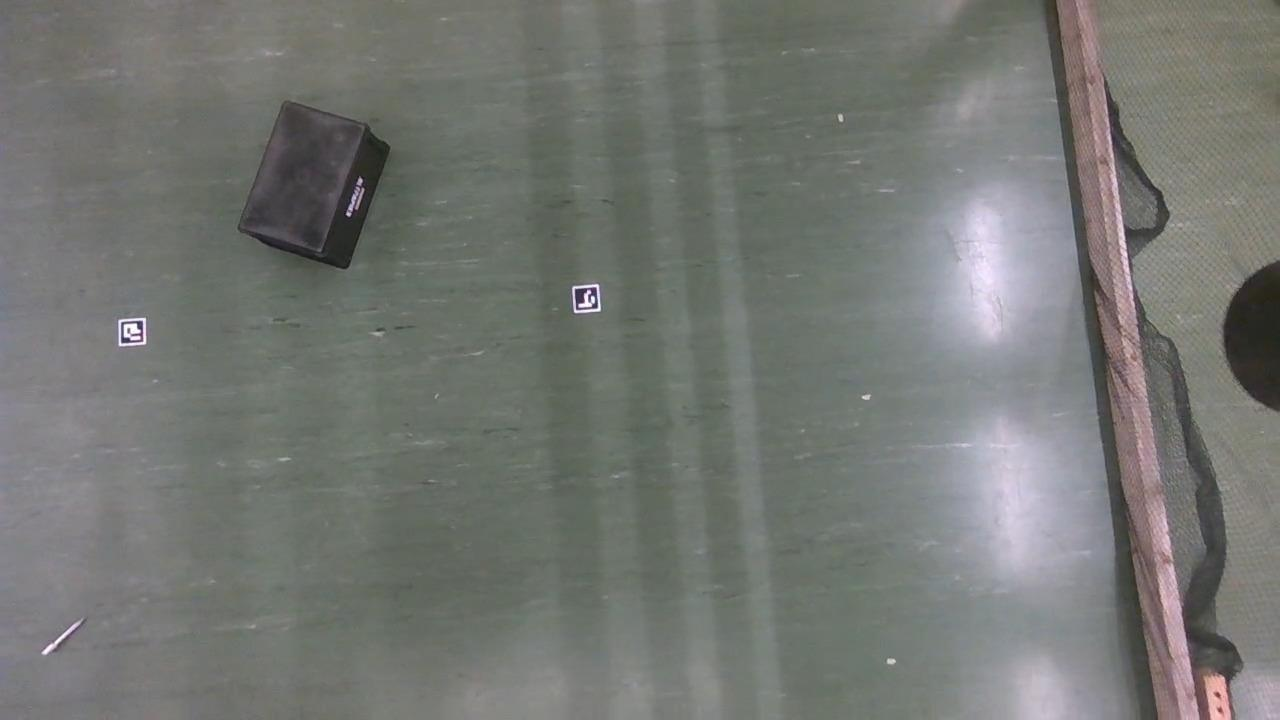probes: (42, 617, 86, 655)
rako: (238, 101, 389, 266)
